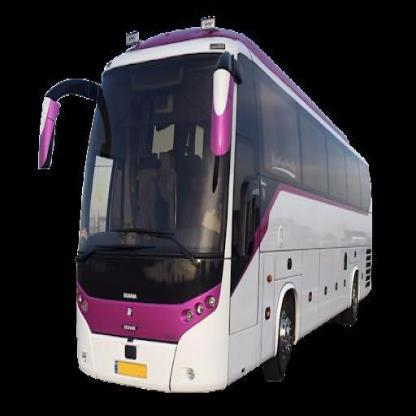Bus: (29, 9, 381, 398)
